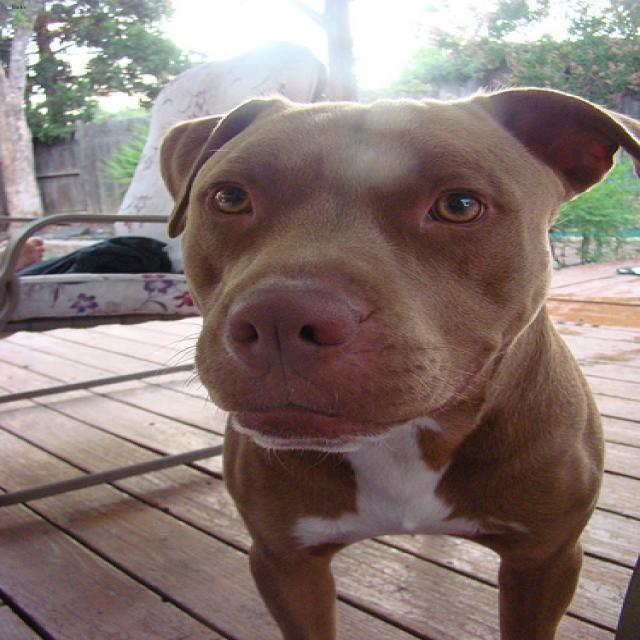dog-american_pit_bull_terrier: (142, 79, 637, 637)
